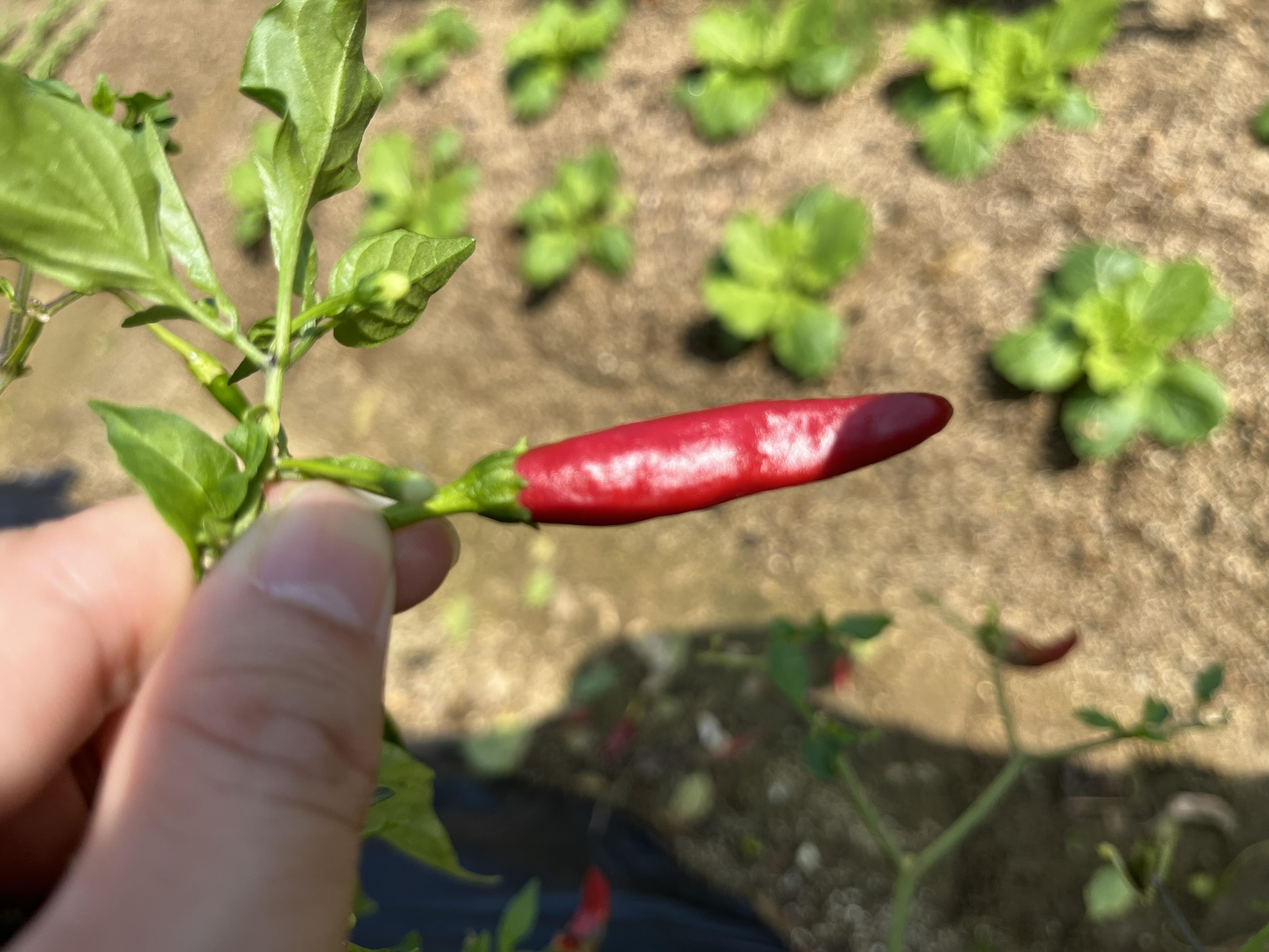Buah Cabai Sehat: (544, 336, 771, 717)
